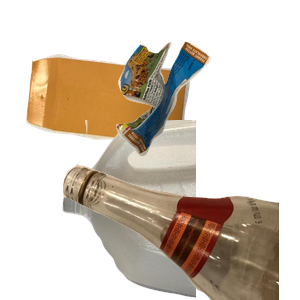glass: (60, 120, 300, 300)
paper: (23, 51, 206, 189)
plastic: (60, 120, 300, 300)
trash: (114, 39, 300, 188)
